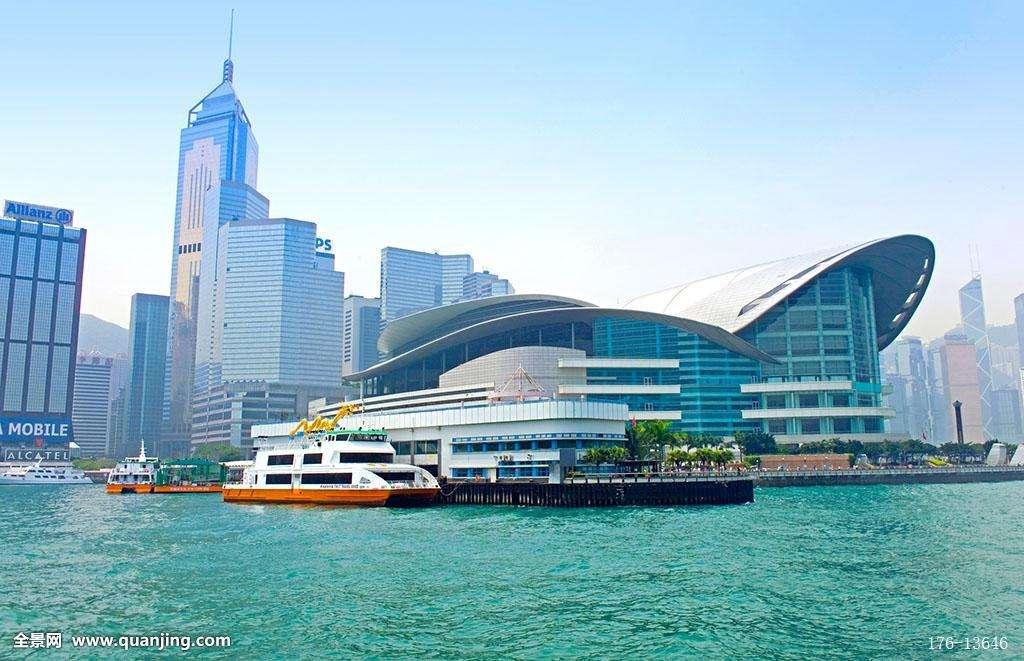yacht: (219, 398, 422, 506)
